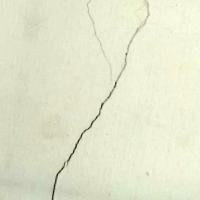crack: (50, 0, 148, 199)
